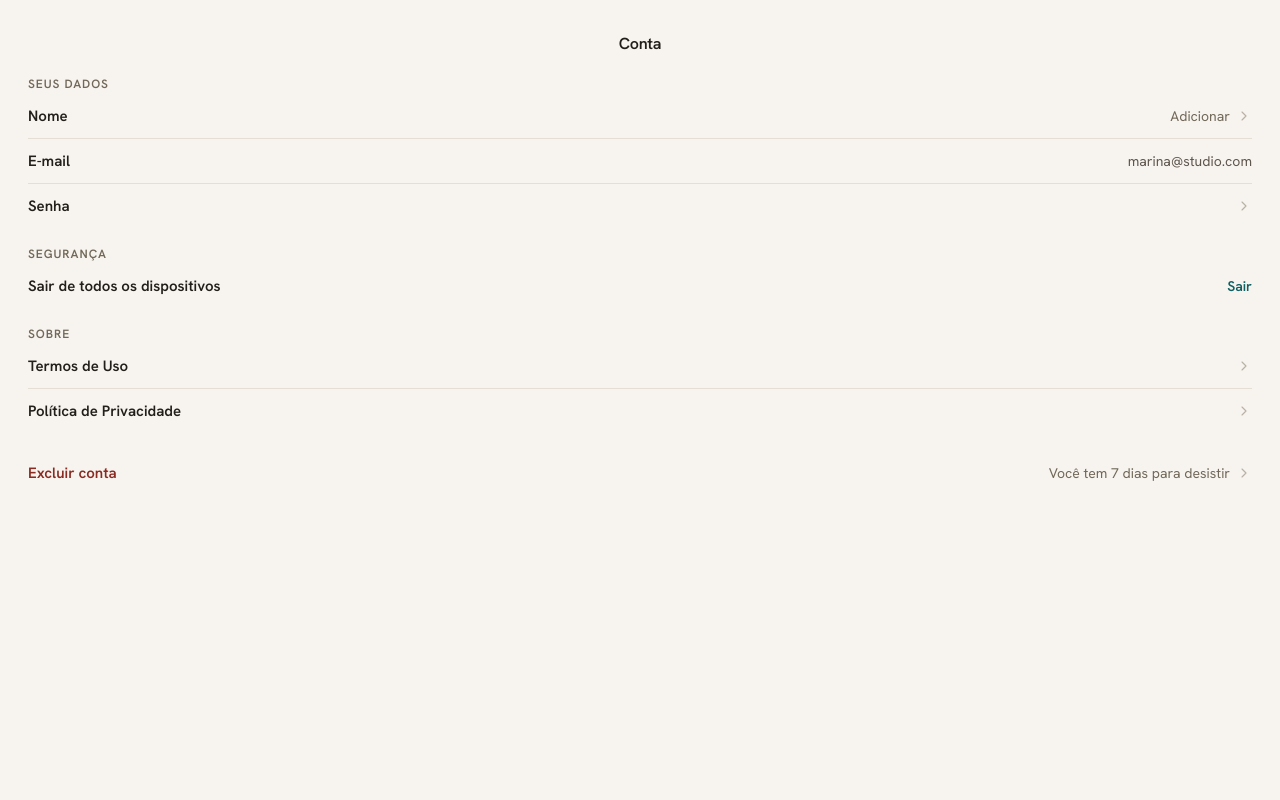
Scenario: abre uma confirmação que avisa a derrubada de todos os aparelhos, inclusive o atual
The width and height of the screenshot is (1280, 800).
Expected: the element "Segurança" is shown, x1=28 y1=246 x2=1252 y2=308
Expected: the element "Segurança" shows "Sair de todos os dispositivos", x1=28 y1=276 x2=221 y2=296
Click the button "Sair".
click(1240, 286)  # box x1=1227 y1=264 x2=1252 y2=308
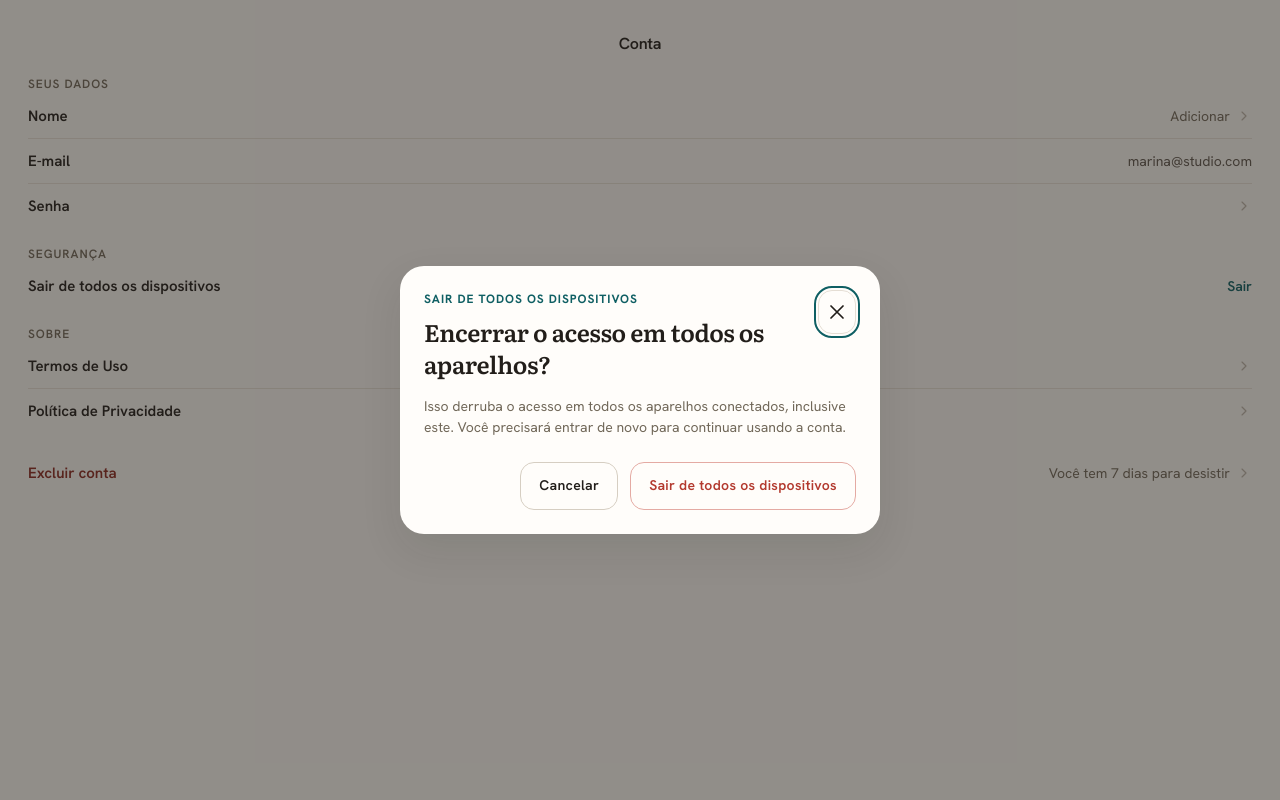
Now the dialog "Encerrar o acesso em todos os aparelhos?" shows "todos os aparelhos conectados, inclusive", box x1=424 y1=397 x2=846 y2=436
Now the dialog "Encerrar o acesso em todos os aparelhos?" shows "este", box x1=424 y1=397 x2=846 y2=436
